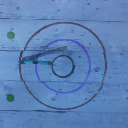Axe Tip: (22, 57, 36, 60)
